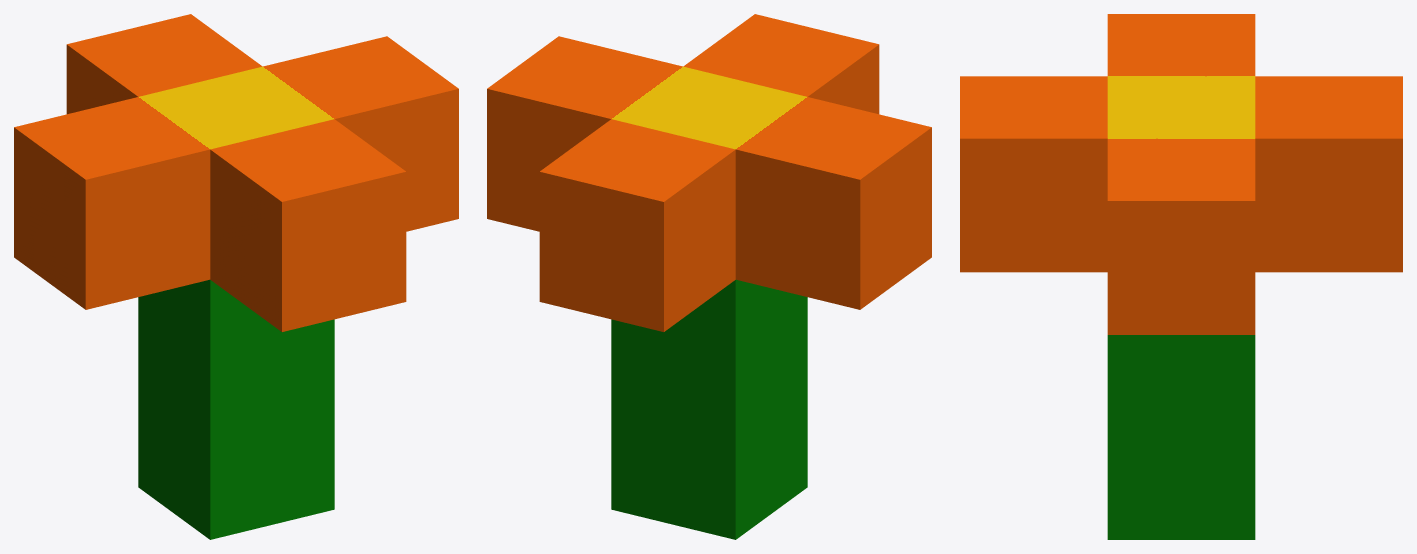
The model's file is fLOR 1.fbx.
The picture shows the model from 3 angles, left to right: view 1: azimuth 30°, elevation 25°; view 2: azimuth 150°, elevation 25°; view 3: azimuth 270°, elevation 25°; orthographic projection. The views are drawn at different scales.
Parts seen in each view (by area): view 1: Flor_1:Mesh; view 2: Flor_1:Mesh; view 3: Flor_1:Mesh.
Boxes of the visible parts, <box> form: Flor_1:Mesh: <box>14,14,458,539</box>; Flor_1:Mesh: <box>487,14,931,539</box>; Flor_1:Mesh: <box>960,14,1402,539</box>.
Bounding box in the file's own units: 0.3 × 0.3 × 0.3.
